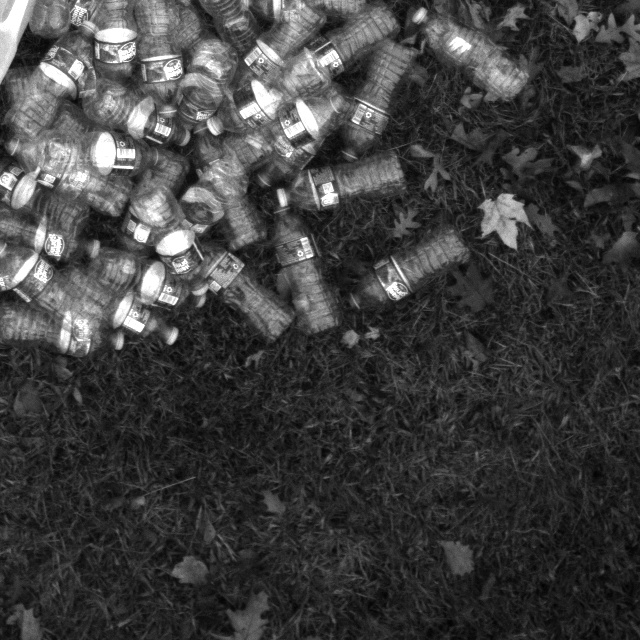bottle: (29, 261, 184, 353), (341, 220, 468, 323), (406, 0, 530, 103), (0, 18, 99, 146), (328, 37, 426, 165), (182, 238, 300, 343), (259, 139, 409, 221), (104, 138, 195, 265), (267, 197, 350, 335), (219, 85, 347, 172), (279, 0, 403, 86), (221, 0, 330, 96), (294, 0, 409, 86), (194, 128, 264, 264), (217, 51, 325, 137), (6, 136, 127, 212), (73, 82, 195, 151), (0, 301, 130, 365), (87, 247, 209, 314), (0, 152, 89, 238), (168, 26, 241, 125), (129, 0, 192, 107), (84, 0, 139, 93), (0, 209, 105, 256), (192, 0, 263, 55)
